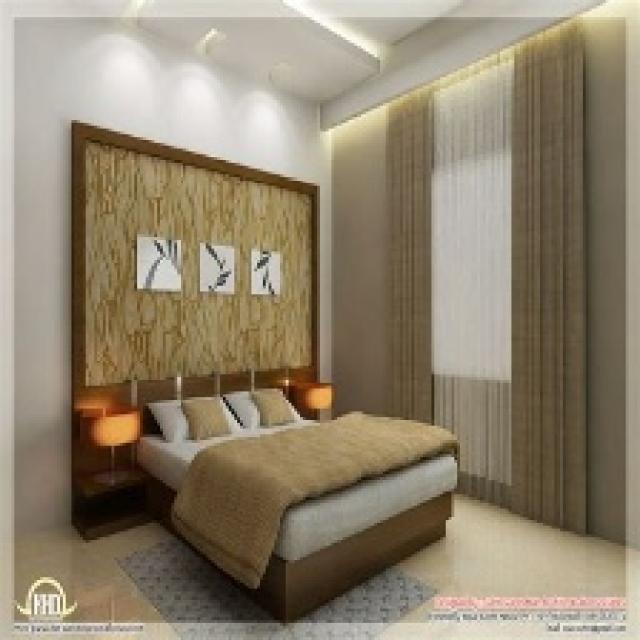Bed: (129, 369, 457, 620)
